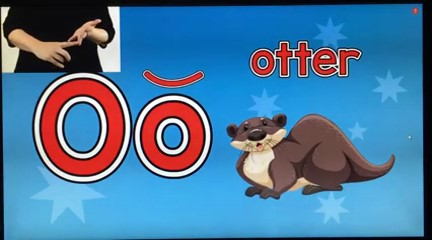O: (25, 15, 105, 70)
